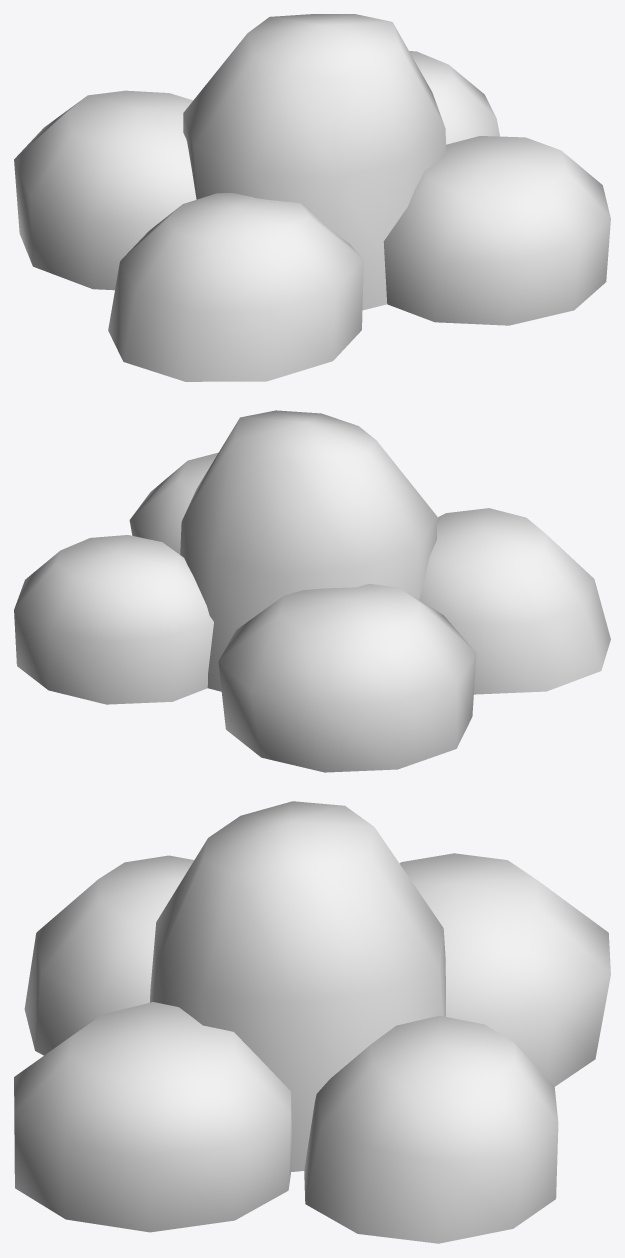
Rendered from item_rm_jade_c.obj.
The picture shows the model from 3 angles, top to bottom: view 1: azimuth 30°, elevation 25°; view 2: azimuth 150°, elevation 25°; view 3: azimuth 270°, elevation 25°; orthographic projection. The views are drawn at different scales.
Parts seen in each view (by area): view 1: part_136_rawmat_jade, part_000_rawmat_jade, part_034_rawmat_jade, part_068_rawmat_jade, part_102_rawmat_jade; view 2: part_136_rawmat_jade, part_068_rawmat_jade, part_102_rawmat_jade, part_000_rawmat_jade, part_034_rawmat_jade; view 3: part_136_rawmat_jade, part_034_rawmat_jade, part_102_rawmat_jade, part_068_rawmat_jade, part_000_rawmat_jade.
Boxes of the visible parts, left/top/right/bottom form: part_136_rawmat_jade: left=183, top=14, right=445, bottom=310; part_000_rawmat_jade: left=108, top=193, right=363, bottom=381; part_034_rawmat_jade: left=383, top=136, right=610, bottom=325; part_068_rawmat_jade: left=14, top=90, right=196, bottom=290; part_102_rawmat_jade: left=409, top=51, right=499, bottom=144; part_136_rawmat_jade: left=180, top=410, right=437, bottom=691; part_068_rawmat_jade: left=218, top=584, right=476, bottom=772; part_102_rawmat_jade: left=14, top=535, right=213, bottom=704; part_000_rawmat_jade: left=419, top=508, right=610, bottom=694; part_034_rawmat_jade: left=129, top=452, right=218, bottom=554; part_136_rawmat_jade: left=149, top=801, right=445, bottom=1171; part_034_rawmat_jade: left=14, top=1002, right=291, bottom=1232; part_102_rawmat_jade: left=304, top=1015, right=558, bottom=1243; part_068_rawmat_jade: left=399, top=853, right=610, bottom=1086; part_000_rawmat_jade: left=24, top=855, right=194, bottom=1055.
Bounding box in the file's own units: 0.8695 × 0.4026 × 0.7667.
